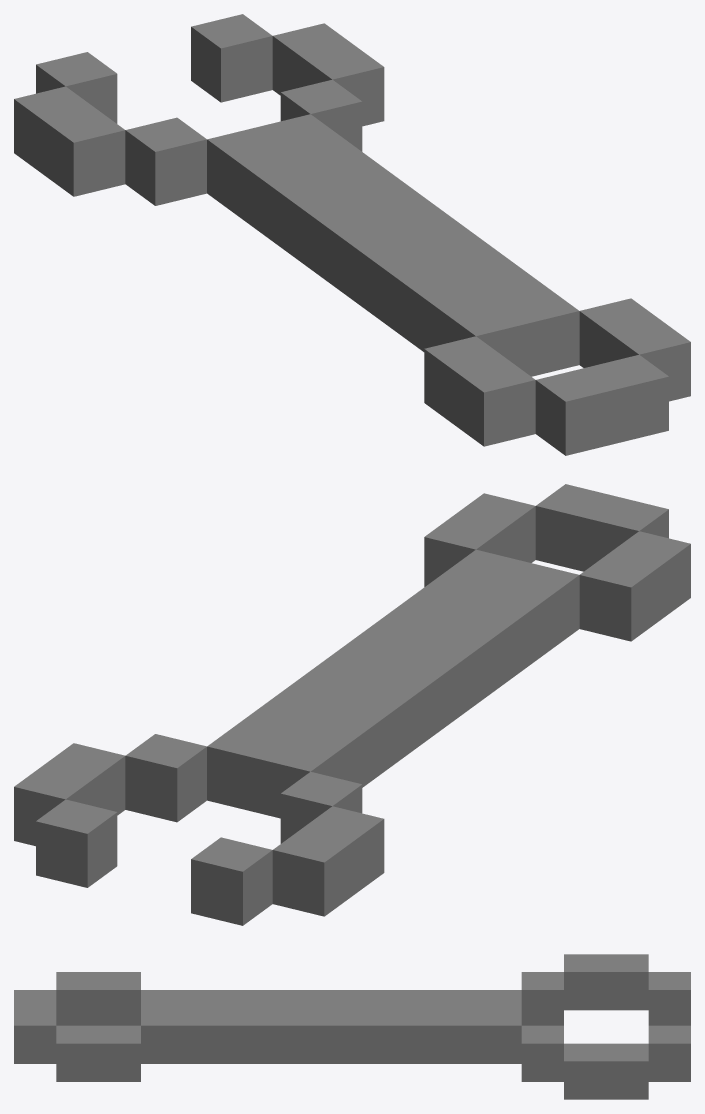
File: wrench.obj
The picture shows the model from 3 angles, top to bottom: view 1: azimuth 30°, elevation 25°; view 2: azimuth 150°, elevation 25°; view 3: azimuth 270°, elevation 25°; orthographic projection. The views are drawn at different scales.
Bounding box in the file's own units: 0.6 × 0.1 × 1.6.
Materials: 1 (1 with a texture image).
